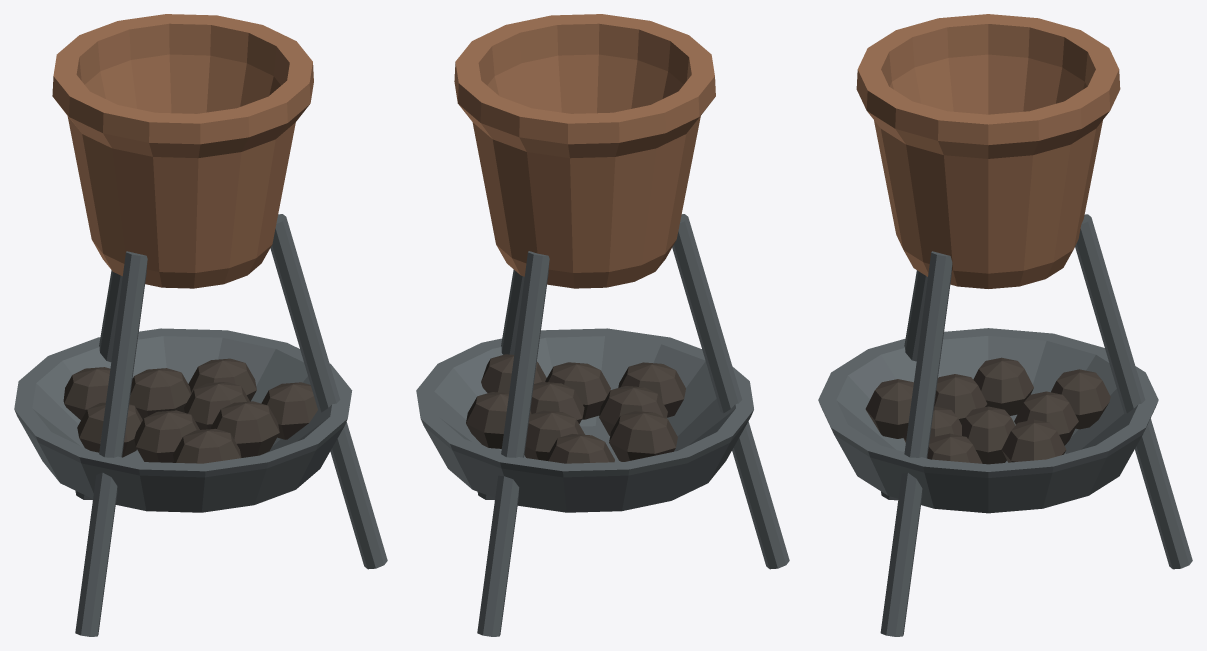
The model's file is crucible.glb.
3 renders of one model, left to right at view 1: azimuth 30°, elevation 25°; view 2: azimuth 150°, elevation 25°; view 3: azimuth 270°, elevation 25°, orthographic.
Visible parts, largest first — view 1: clay, iron, Cone.001, Cone, Sphere.003, Sphere.002, Sphere.001, Sphere.008, Sphere.006, Sphere, Sphere.007, Sphere.004 (+2 smaller); view 2: clay, iron, Cone.002, Cone.001, Sphere.004, Sphere.003, Sphere.006, Sphere.005, Sphere.002, Sphere.001, Sphere.007, Sphere (+2 smaller); view 3: clay, iron, Cone, Cone.002, Sphere.004, Sphere.007, Sphere, Sphere.006, Sphere.005, Sphere.002, Sphere.001, Cone.001 (+2 smaller).
Boxes of the visible parts, x1=… form: clay: x1=52, y1=14, x2=313, y2=288; iron: x1=14, y1=328, x2=352, y2=512; Cone.001: x1=75, y1=251, x2=147, y2=636; Cone: x1=270, y1=214, x2=387, y2=569; Sphere.003: x1=211, y1=401, x2=279, y2=457; Sphere.002: x1=129, y1=368, x2=191, y2=419; Sphere.001: x1=134, y1=410, x2=199, y2=462; Sphere.008: x1=261, y1=382, x2=317, y2=439; Sphere.006: x1=173, y1=428, x2=241, y2=463; Sphere: x1=184, y1=382, x2=249, y2=429; Sphere.007: x1=63, y1=367, x2=110, y2=419; Sphere.004: x1=77, y1=402, x2=142, y2=457; clay: x1=454, y1=14, x2=715, y2=288; iron: x1=416, y1=328, x2=753, y2=512; Cone.002: x1=477, y1=251, x2=549, y2=636; Cone.001: x1=672, y1=214, x2=789, y2=569; Sphere.004: x1=609, y1=411, x2=677, y2=461; Sphere.003: x1=545, y1=362, x2=610, y2=419; Sphere.006: x1=618, y1=362, x2=685, y2=417; Sphere.005: x1=466, y1=392, x2=531, y2=448; Sphere.002: x1=524, y1=410, x2=584, y2=460; Sphere.001: x1=599, y1=386, x2=667, y2=435; Sphere.007: x1=547, y1=434, x2=614, y2=463; Sphere: x1=530, y1=382, x2=584, y2=423; clay: x1=856, y1=14, x2=1120, y2=288; iron: x1=818, y1=328, x2=1158, y2=513; Cone: x1=880, y1=251, x2=952, y2=636; Cone.002: x1=1075, y1=214, x2=1192, y2=569; Sphere.004: x1=973, y1=357, x2=1033, y2=415; Sphere.007: x1=1051, y1=369, x2=1110, y2=429; Sphere: x1=962, y1=406, x2=1015, y2=464; Sphere.006: x1=865, y1=379, x2=913, y2=438; Sphere.005: x1=1001, y1=419, x2=1066, y2=462; Sphere.002: x1=1014, y1=391, x2=1078, y2=445; Sphere.001: x1=934, y1=374, x2=987, y2=424; Cone.001: x1=881, y1=270, x2=927, y2=500.
Bounding box in the file's own units: 0.3518 × 0.5411 × 0.3696.
